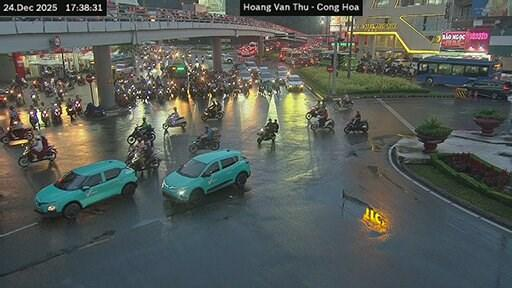motorbike: (18, 144, 56, 166), (124, 148, 160, 170), (188, 134, 219, 153), (0, 127, 32, 143), (127, 126, 154, 143), (162, 116, 185, 130), (310, 116, 332, 130), (256, 126, 275, 142), (345, 120, 368, 133), (83, 104, 105, 116), (202, 109, 223, 120), (28, 109, 38, 129), (51, 103, 60, 124), (335, 99, 352, 109), (41, 108, 50, 126), (29, 89, 38, 106), (73, 99, 82, 115), (305, 106, 316, 118), (16, 76, 28, 85), (16, 93, 25, 104), (67, 103, 73, 118), (74, 76, 83, 85)
